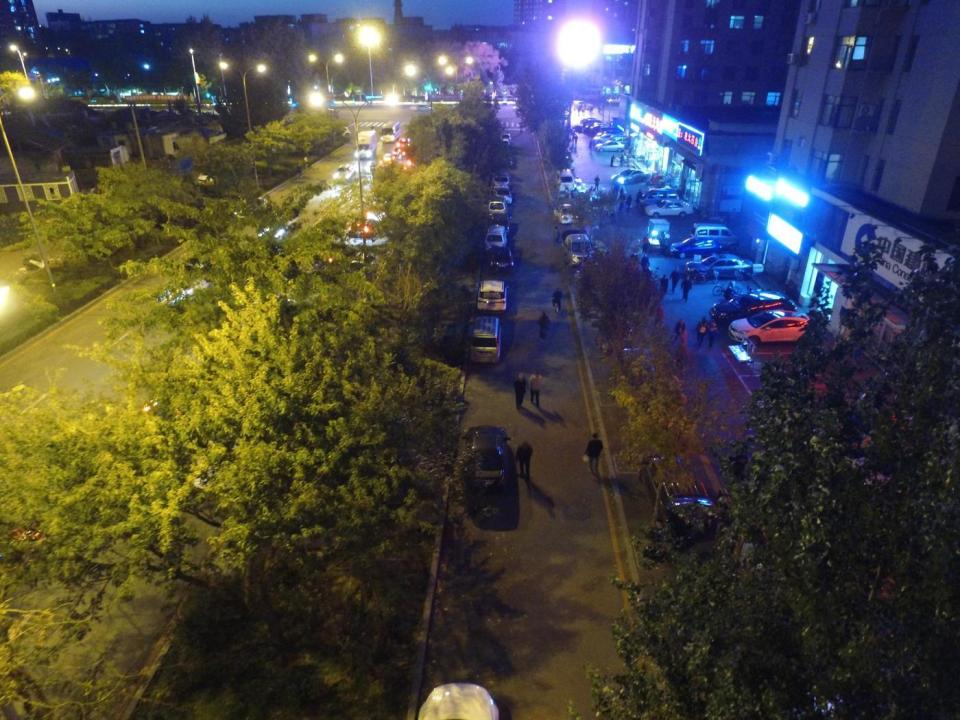bus: (381, 118, 401, 142)
car: (609, 346, 673, 402), (728, 308, 816, 348), (459, 424, 507, 496), (711, 290, 800, 320), (598, 310, 668, 346), (682, 253, 758, 284), (468, 314, 503, 365), (256, 207, 304, 239), (13, 255, 71, 281), (667, 235, 726, 259), (562, 232, 596, 269), (475, 275, 506, 311), (644, 197, 695, 218), (176, 253, 211, 281), (225, 197, 271, 218), (193, 164, 228, 188), (487, 245, 515, 271), (352, 214, 378, 238), (613, 168, 650, 184), (589, 134, 626, 150), (552, 204, 579, 225), (488, 210, 512, 230), (491, 169, 512, 191), (486, 199, 506, 220), (596, 130, 625, 144), (333, 163, 354, 181), (595, 140, 624, 152), (381, 152, 396, 170), (327, 125, 351, 136), (583, 121, 609, 131), (587, 124, 610, 135), (409, 103, 434, 113), (582, 119, 604, 130), (572, 98, 594, 109), (497, 150, 512, 166), (499, 128, 512, 146), (390, 146, 403, 162), (399, 134, 415, 146)
truck: (354, 128, 381, 161)
van: (642, 455, 721, 540), (689, 222, 743, 253), (639, 188, 680, 207), (484, 221, 510, 247), (486, 194, 512, 217), (554, 166, 576, 193), (605, 133, 629, 147), (602, 93, 621, 106)
